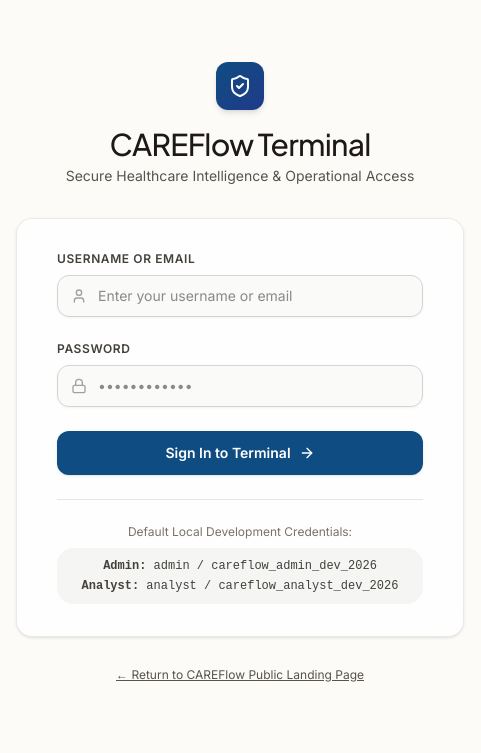
Test case: LoginPage Component › displays error message when login fails
The width and height of the screenshot is (481, 753).
Type "wrong_user" into the field with placeholder "Enter your username or email".
click(240, 296); type("wrong_user")  # box x1=57 y1=274 x2=423 y2=316
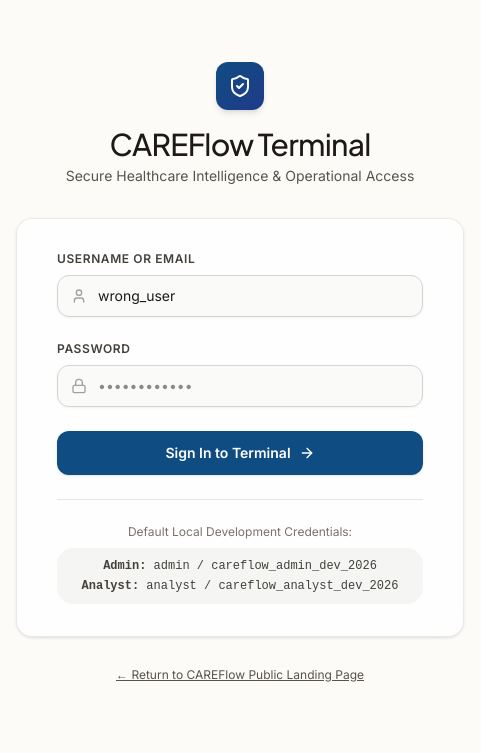
Type "wrong_pass" into the password field with placeholder "••••••••••••".
click(240, 386); type("wrong_pass")  # box x1=57 y1=364 x2=423 y2=406
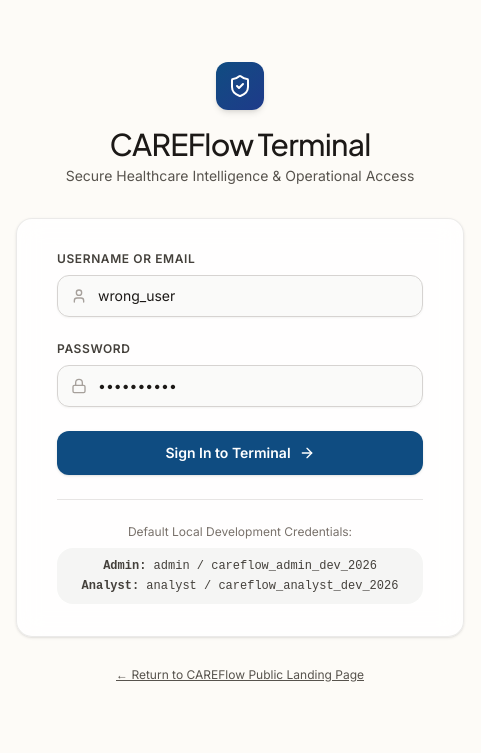
Click the button "Sign In to Terminal".
click(240, 452)  # box x1=57 y1=430 x2=423 y2=474
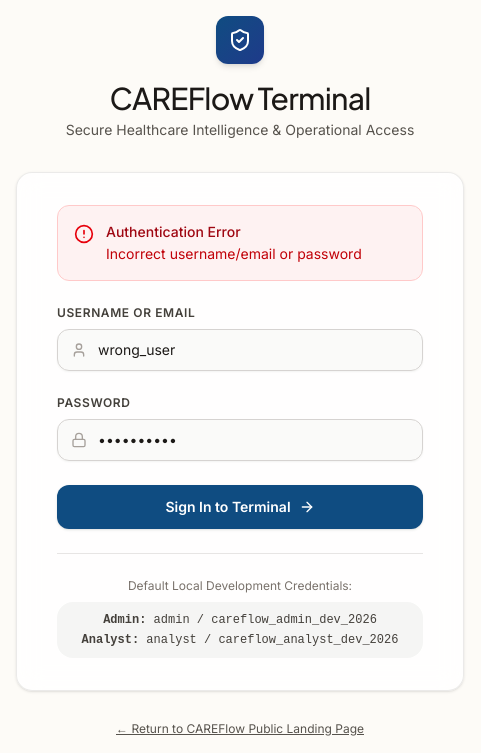
Expected: the text "Incorrect username/email or password" is shown, x1=106 y1=244 x2=362 y2=264
